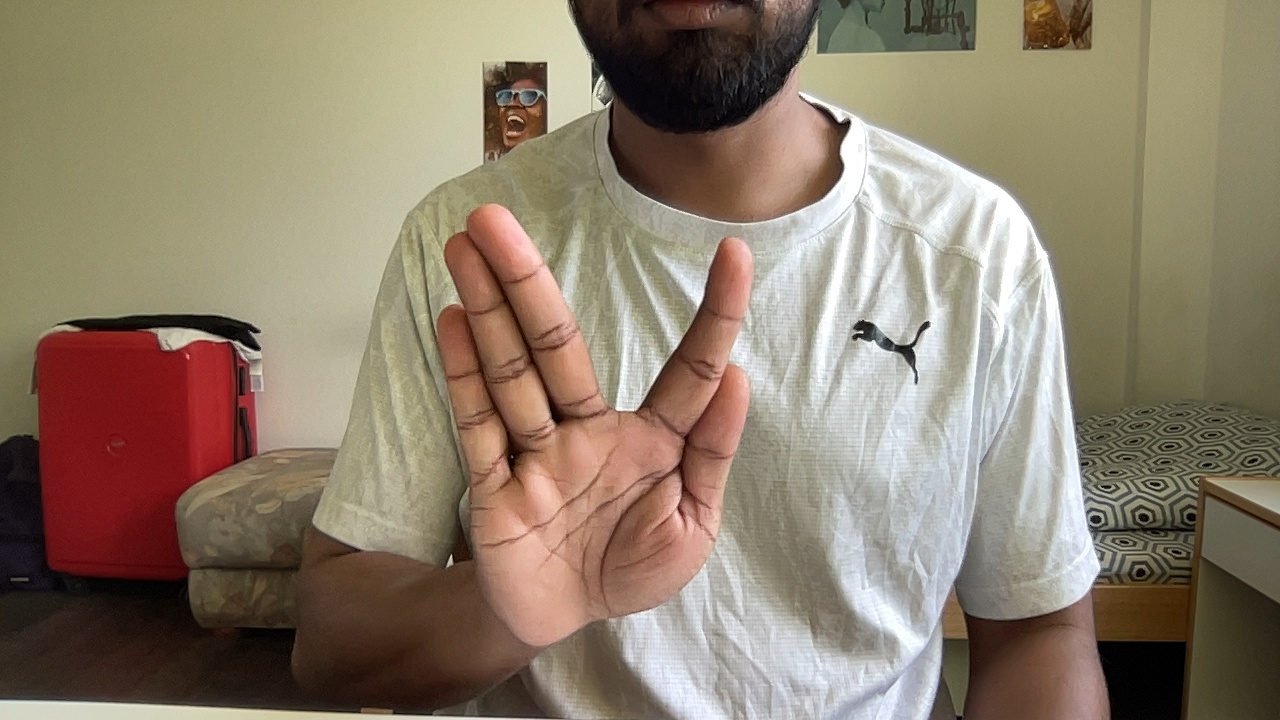LiveLong: (433, 201, 752, 650)
